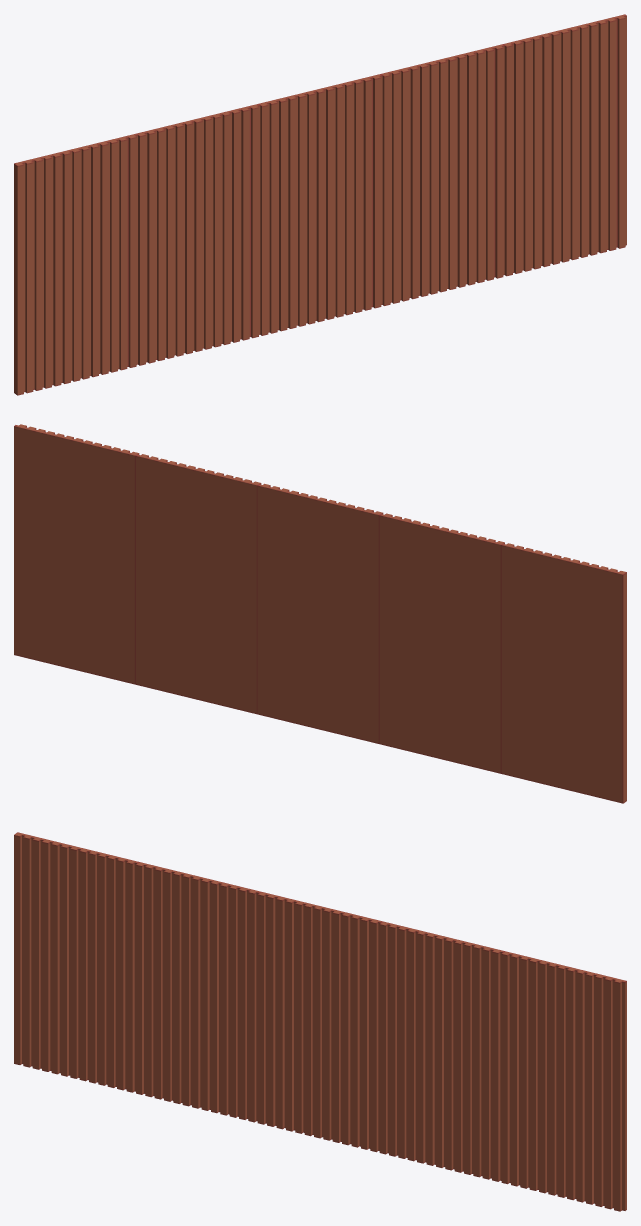
The model's file is Pared.fbx.
The picture shows the model from 3 angles, top to bottom: view 1: azimuth 30°, elevation 25°; view 2: azimuth 150°, elevation 25°; view 3: azimuth 330°, elevation 25°; orthographic projection.
Parts seen in each view (by area): view 1: ParedExp; view 2: ParedExp; view 3: ParedExp.
Boxes of the visible parts, x1,y1,x2,y2 form: ParedExp: [14, 14, 626, 395]; ParedExp: [14, 424, 626, 803]; ParedExp: [14, 832, 626, 1211].
Bounding box in the file's own units: 19.5 × 0.2 × 7.
